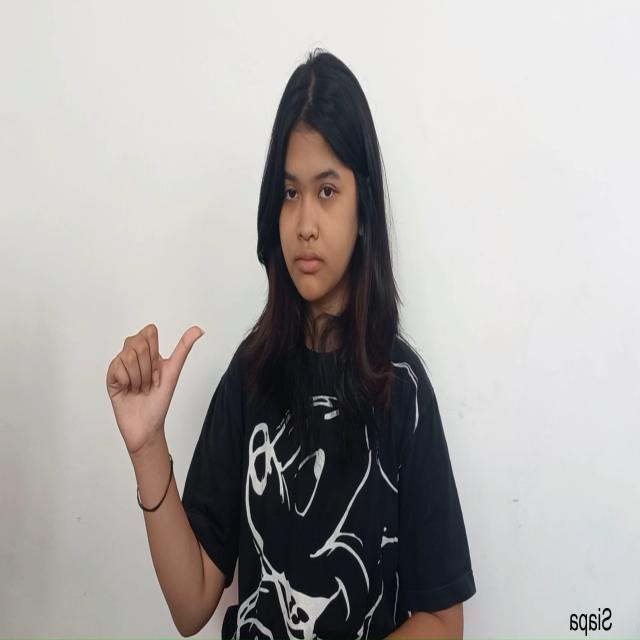Siapa -BISINDO-: (104, 320, 206, 471)
